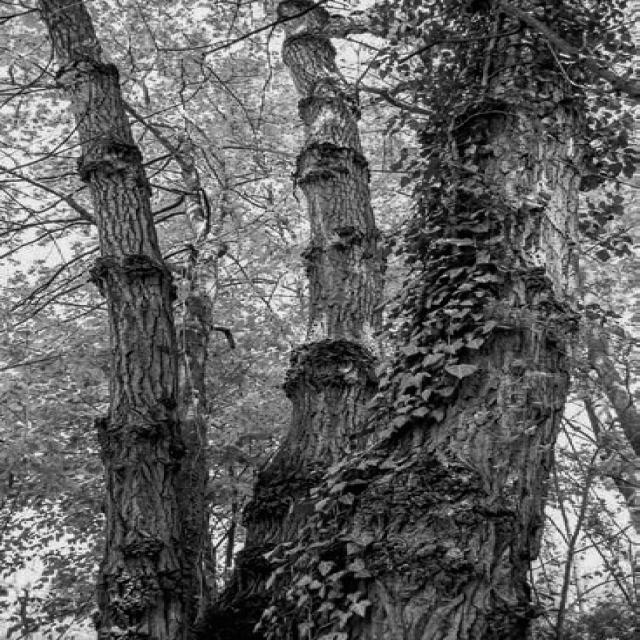Populus nigra: (290, 0, 640, 621), (23, 0, 209, 638), (263, 0, 395, 638)
